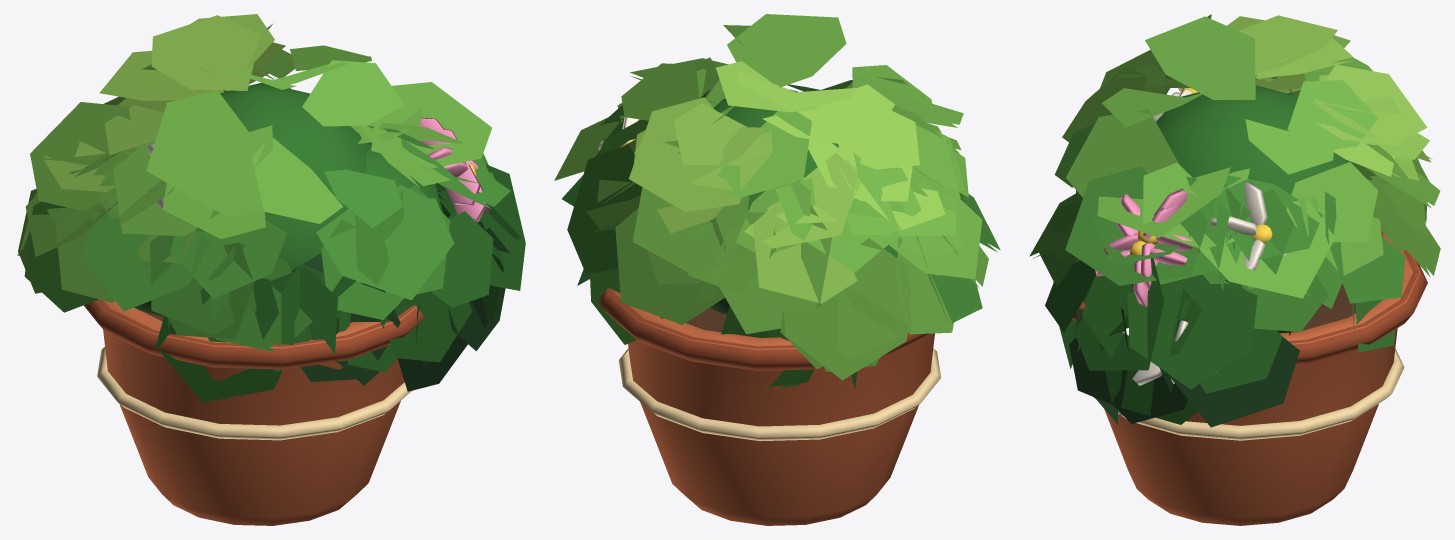
Rendered from FlowerPot.glb.
3 renders of one model, left to right at view 1: azimuth 30°, elevation 25°; view 2: azimuth 150°, elevation 25°; view 3: azimuth 270°, elevation 25°, orthographic.
Parts seen in each view (by area): view 1: Sway, Body; view 2: Sway, Body; view 3: Sway, Body.
Part boxes in pixels (bbox=[...]): Sway: bbox=[17, 14, 525, 402]; Body: bbox=[84, 82, 442, 525]; Sway: bbox=[554, 14, 1000, 389]; Body: bbox=[599, 89, 940, 525]; Sway: bbox=[1029, 14, 1440, 427]; Body: bbox=[1053, 85, 1427, 525].
Bounding box in the file's own units: 1.72 × 1.68 × 1.41.
Materials: 2 (2 with a texture image).
